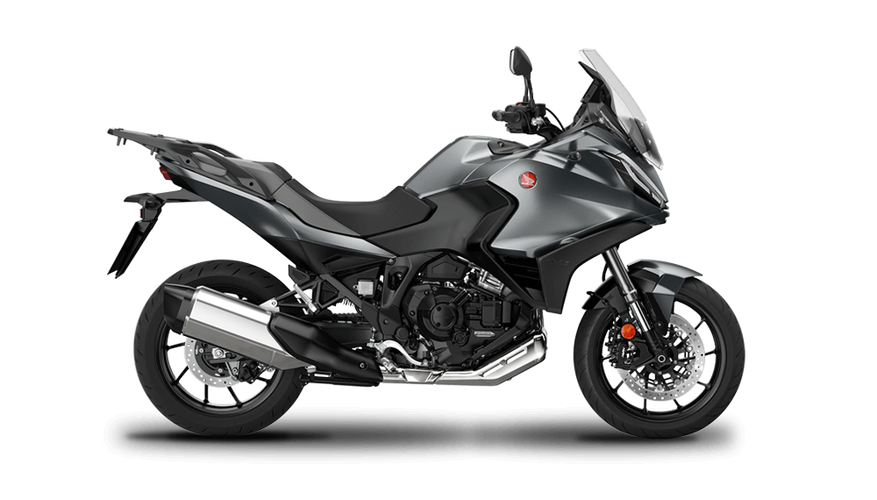摩托车: (59, 37, 762, 472)
